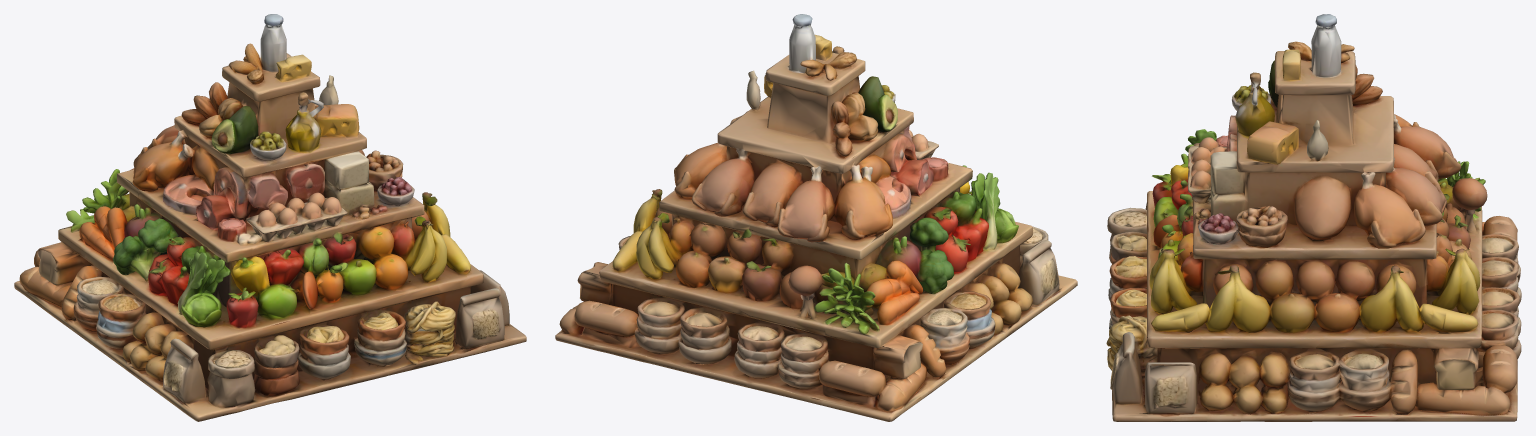
The model's file is food-pyramid-v2.glb.
3 views of the same model, side by side, from view 1: azimuth 30°, elevation 25°; view 2: azimuth 150°, elevation 25°; view 3: azimuth 270°, elevation 25° (orthographic). The views are drawn at different scales.
Parts seen in each view (by area): view 1: tripo_node_78326ecd-aa3a-4f1e-8b6c-a1308353343a; view 2: tripo_node_78326ecd-aa3a-4f1e-8b6c-a1308353343a; view 3: tripo_node_78326ecd-aa3a-4f1e-8b6c-a1308353343a.
Boxes of the visible parts, <box> form: tripo_node_78326ecd-aa3a-4f1e-8b6c-a1308353343a: <box>14,14,526,421</box>; tripo_node_78326ecd-aa3a-4f1e-8b6c-a1308353343a: <box>555,14,1077,421</box>; tripo_node_78326ecd-aa3a-4f1e-8b6c-a1308353343a: <box>1106,14,1521,421</box>.
Bounding box in the file's own units: 0.9991 × 0.8125 × 0.9494.
1 material, 1 textured.
